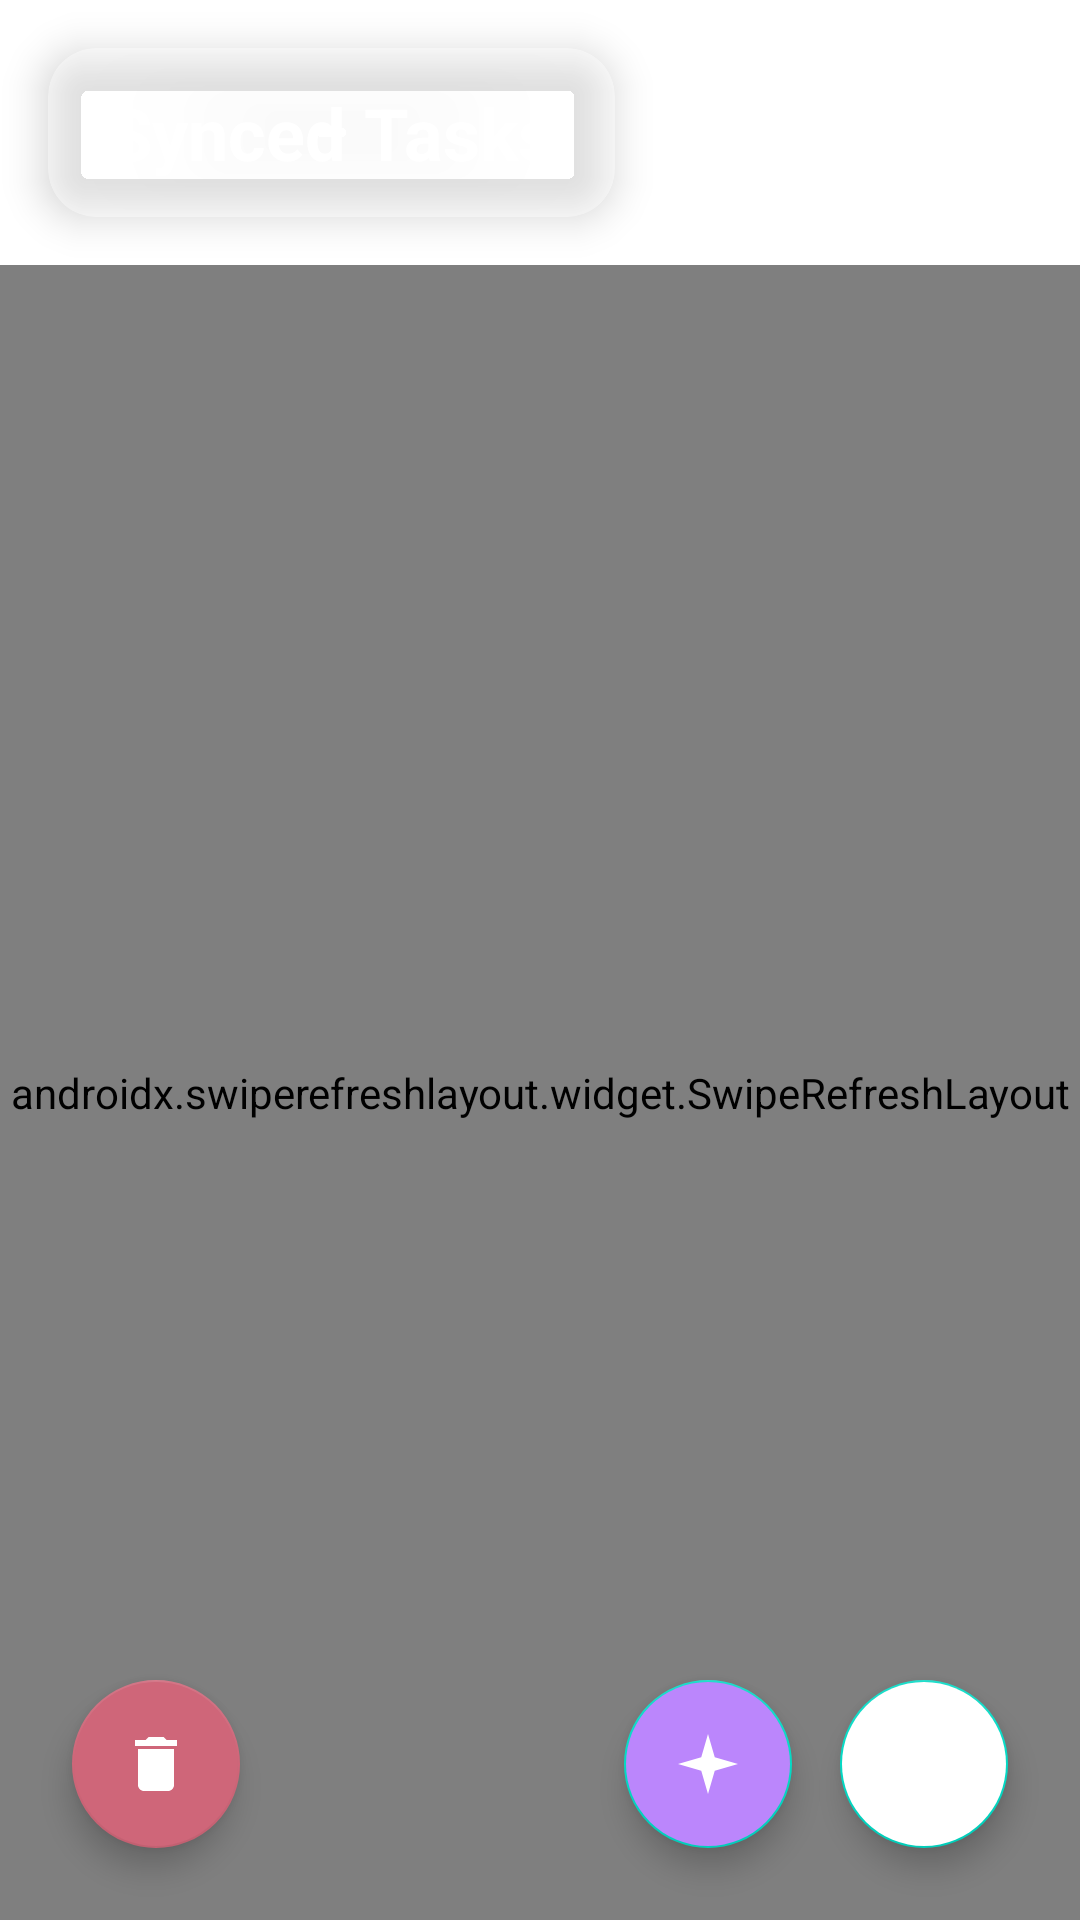

Named icons in this screenshot (1080px×1920px) and their centers, (x=x, y=y):
Create Task with AI: (x=708, y=1764)
Delete Local Data: (x=156, y=1764)
